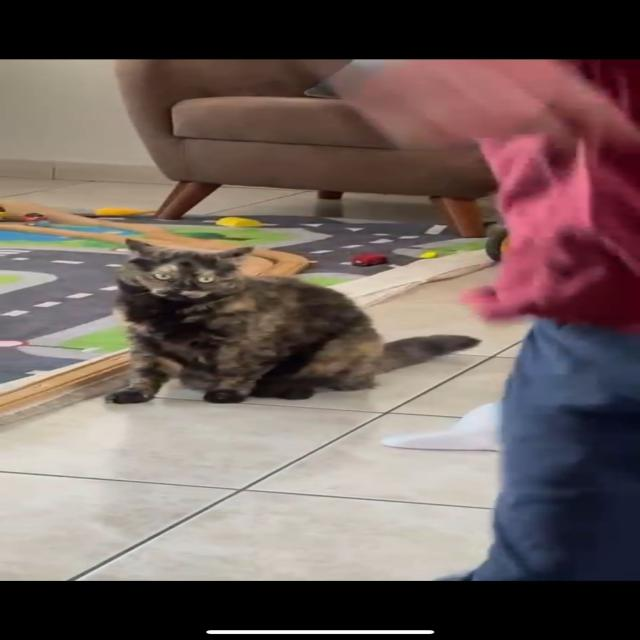authorized: (106, 238, 482, 404)
